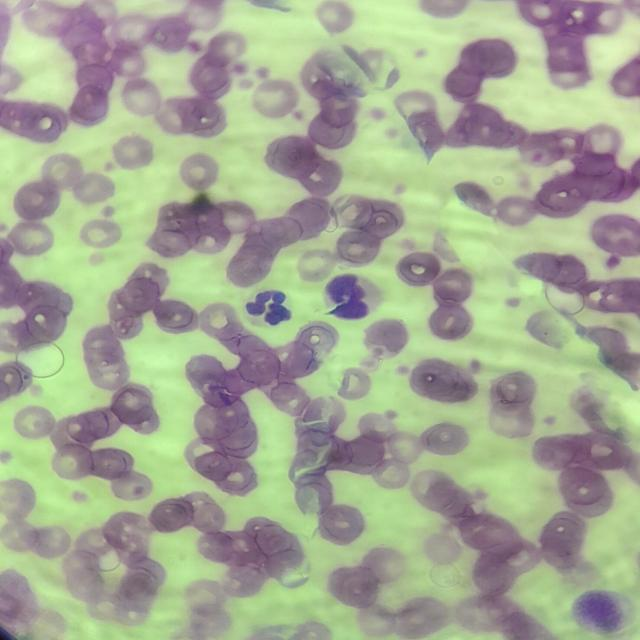Neutrofilo: (323, 271, 387, 322), (239, 287, 298, 330)
